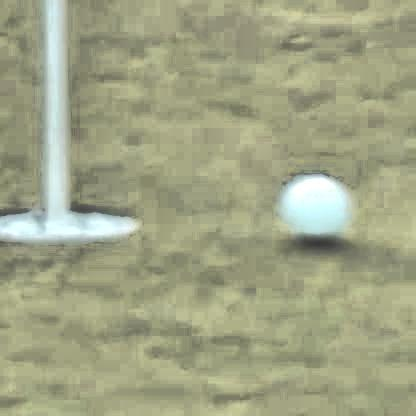golfball: (278, 173, 349, 243)
